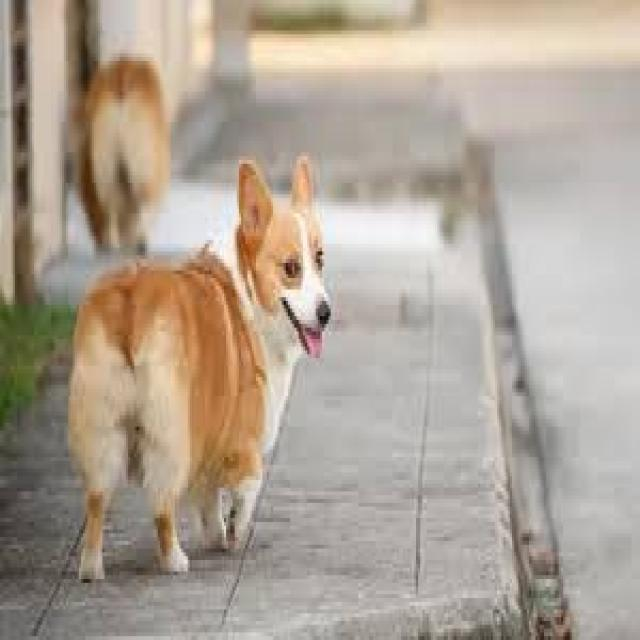CORGI: (84, 158, 331, 588)
